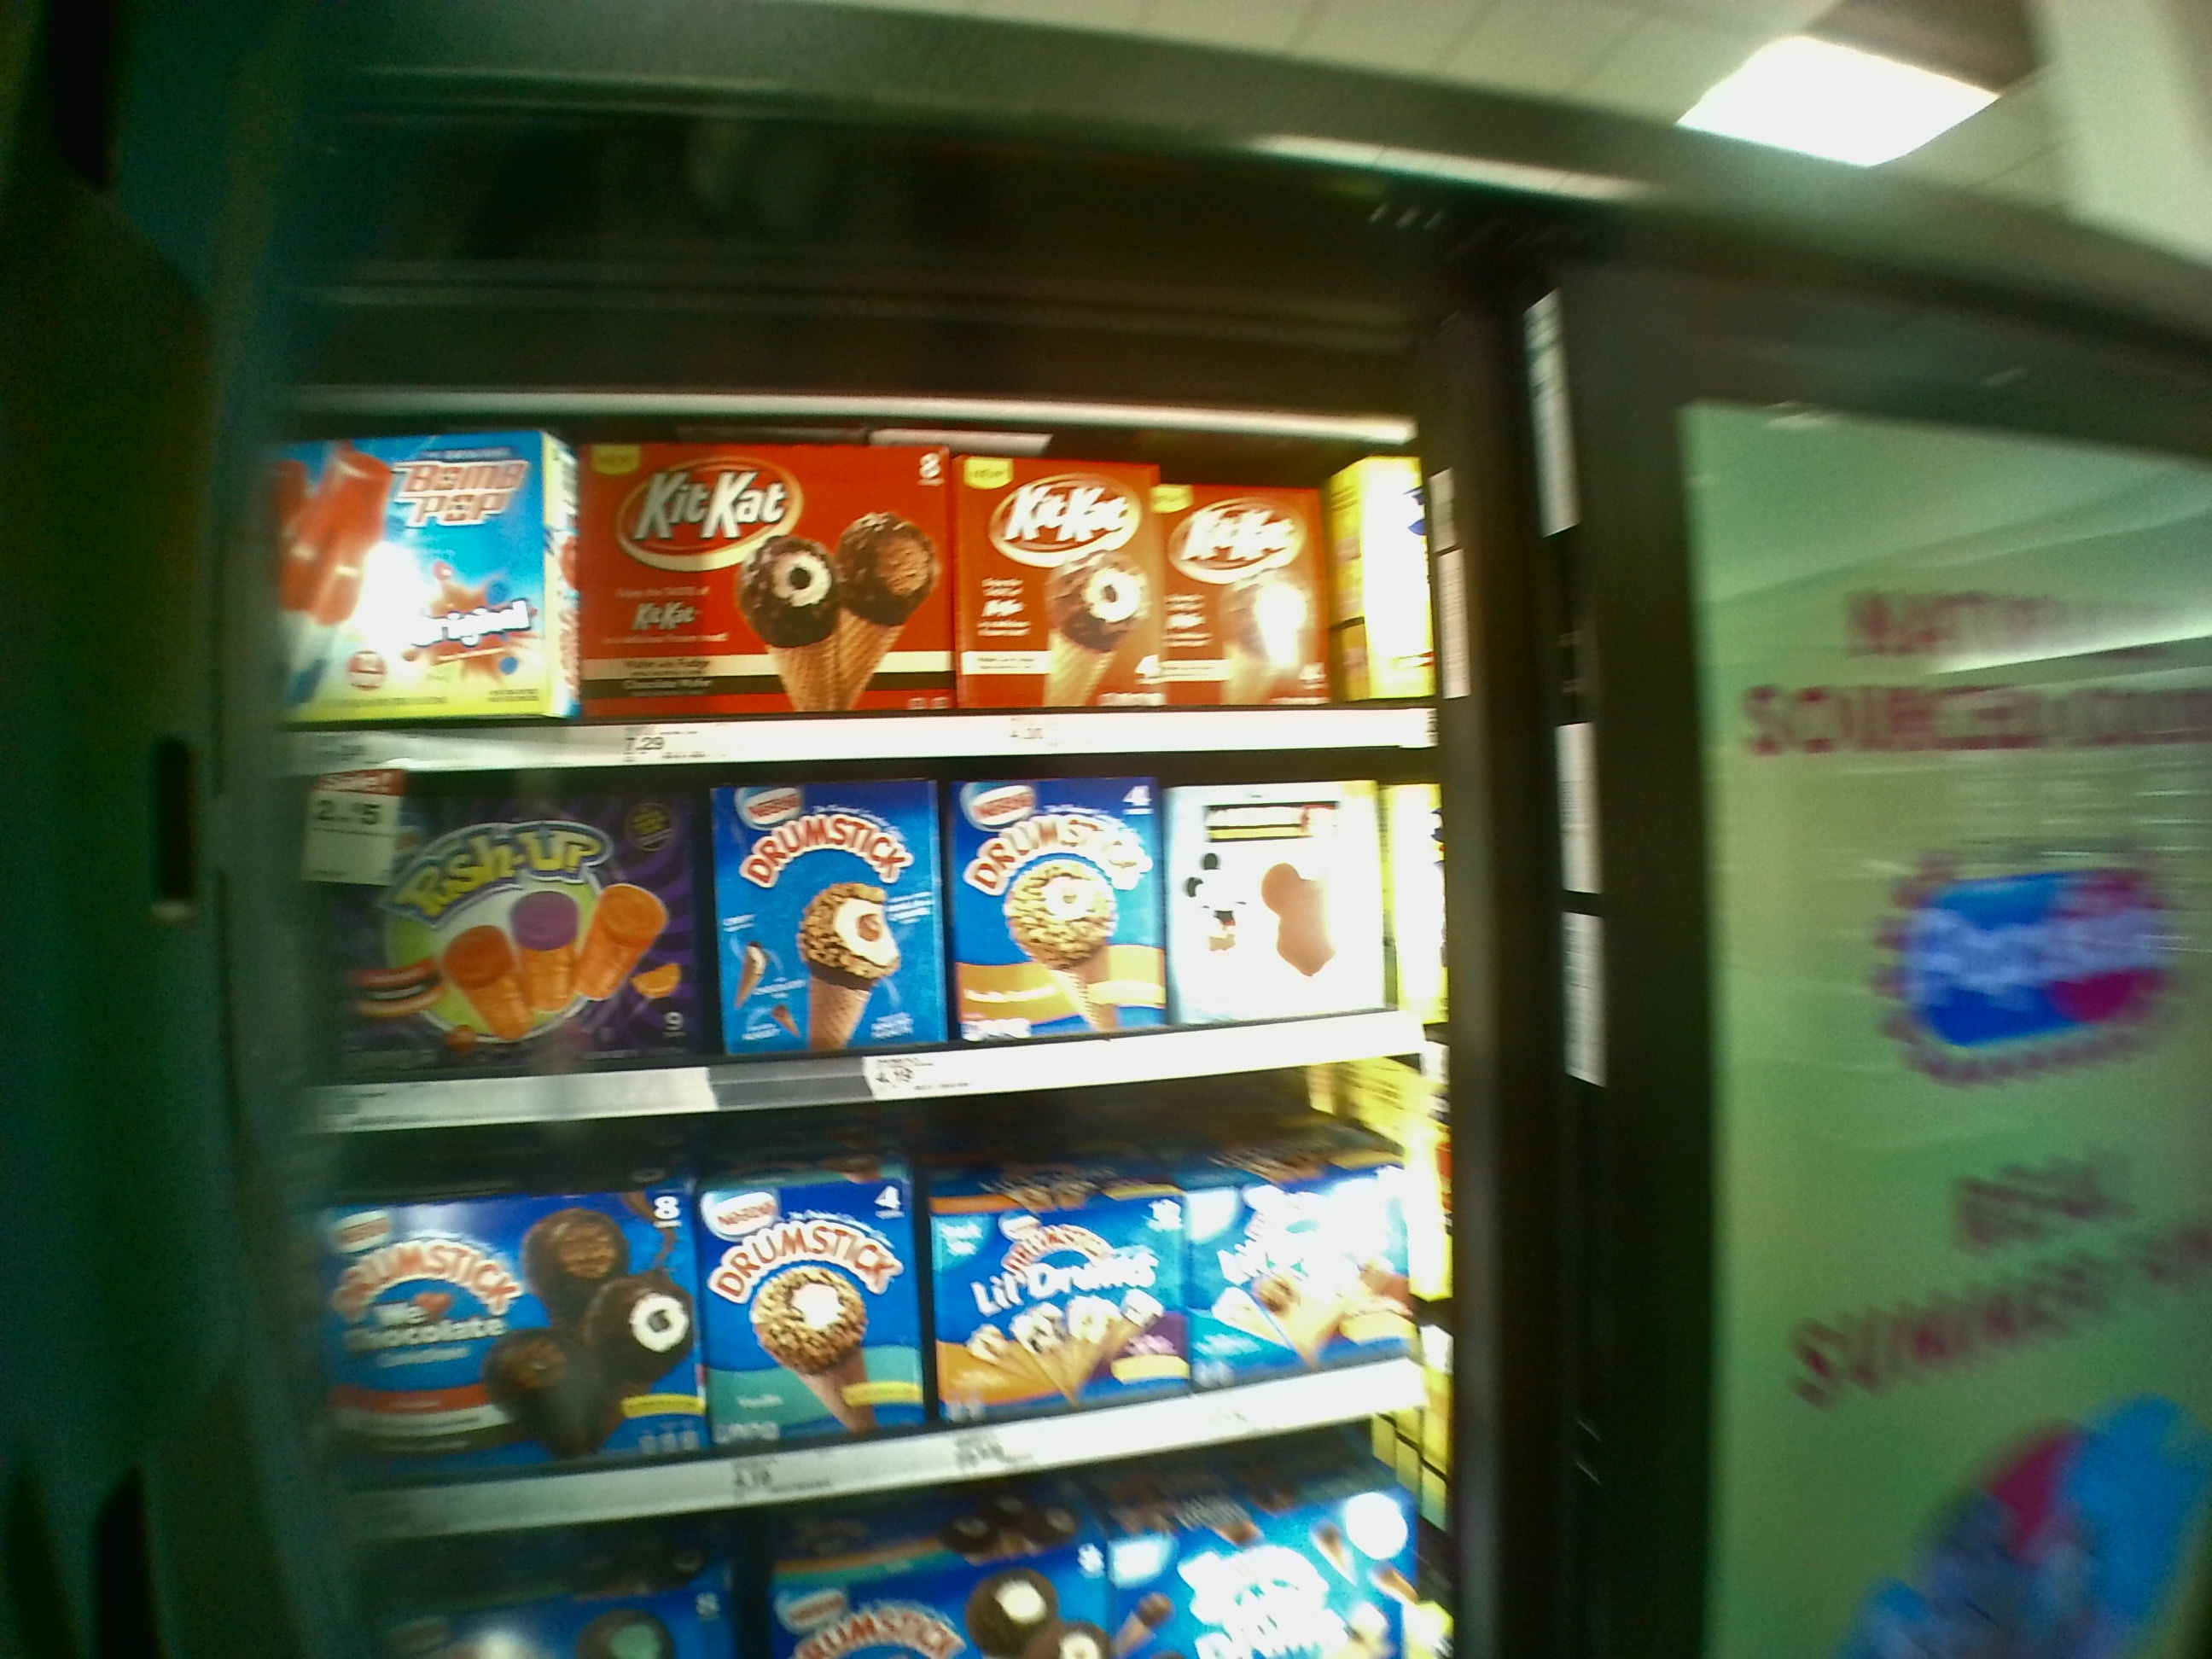shelf: (326, 1101, 1446, 1495), (261, 399, 1437, 769), (298, 777, 1437, 1114)
